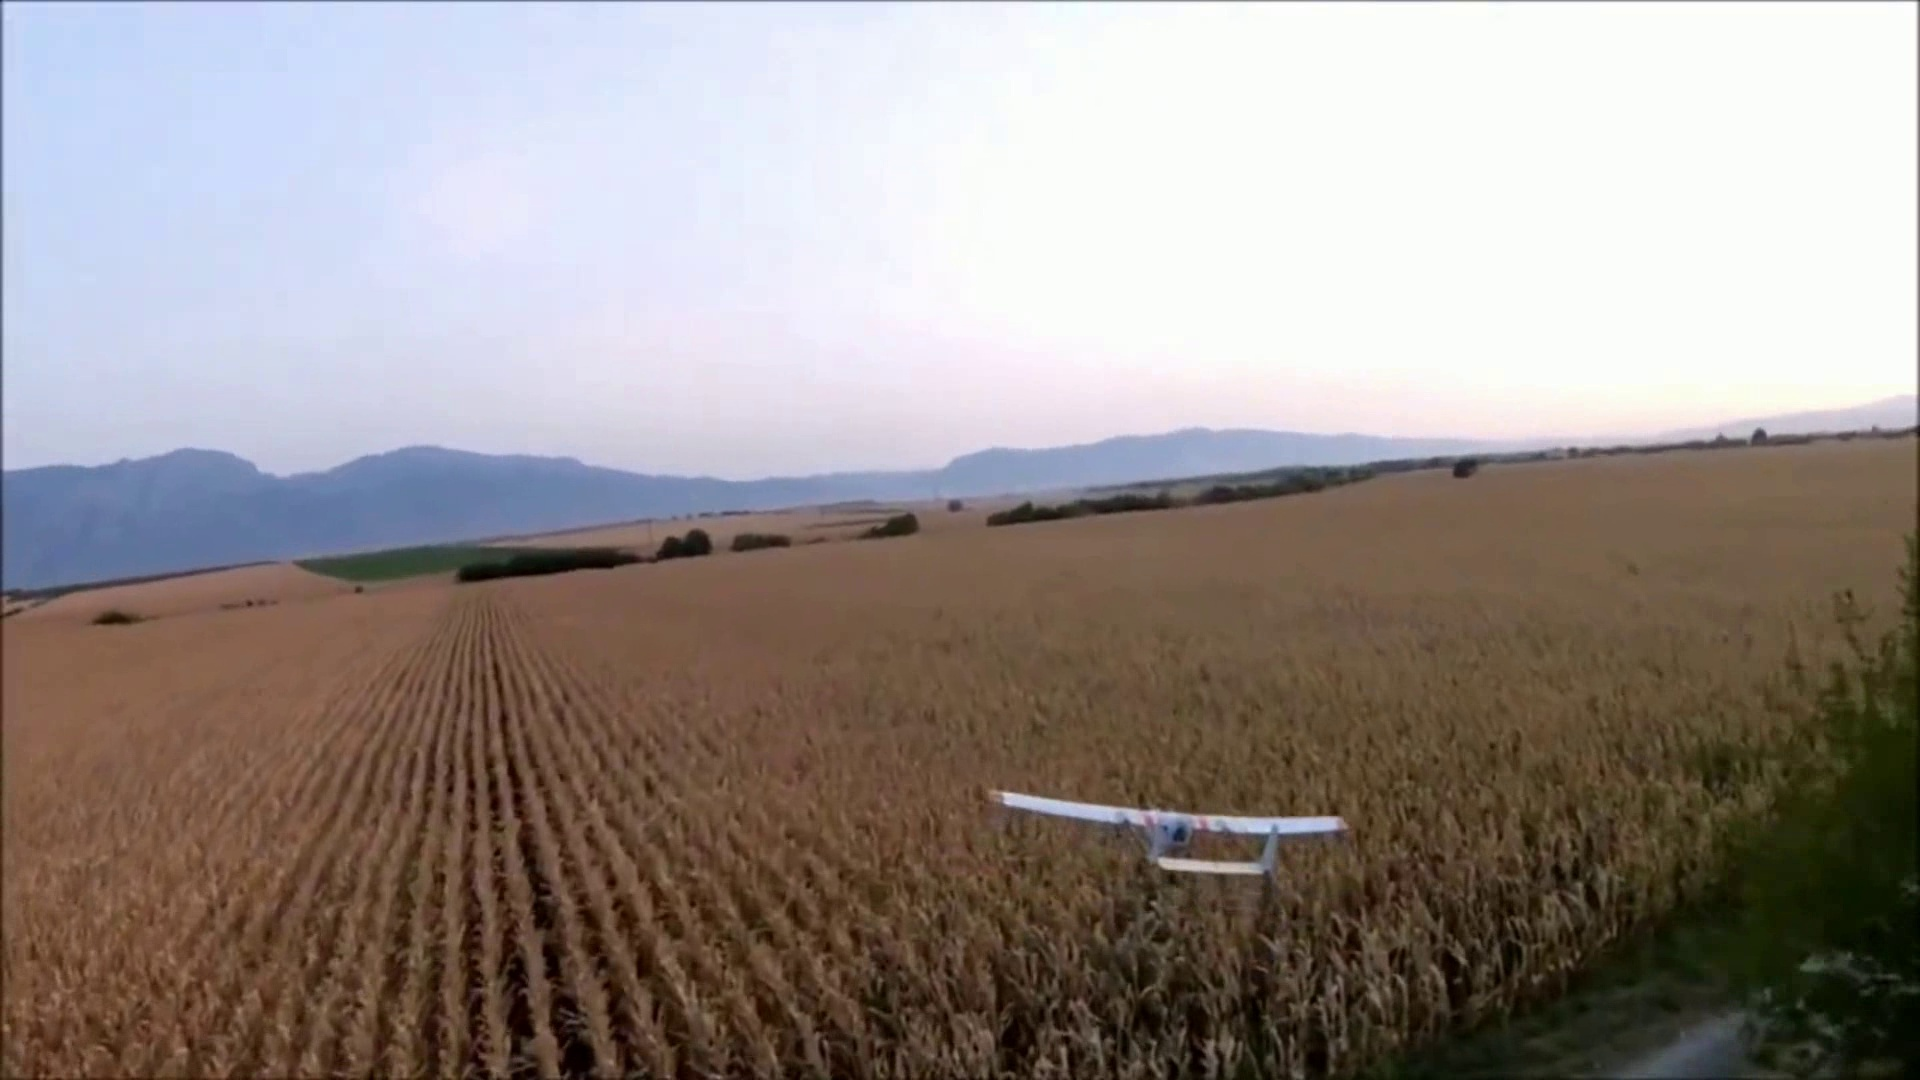airplane: (988, 789, 1350, 878)
